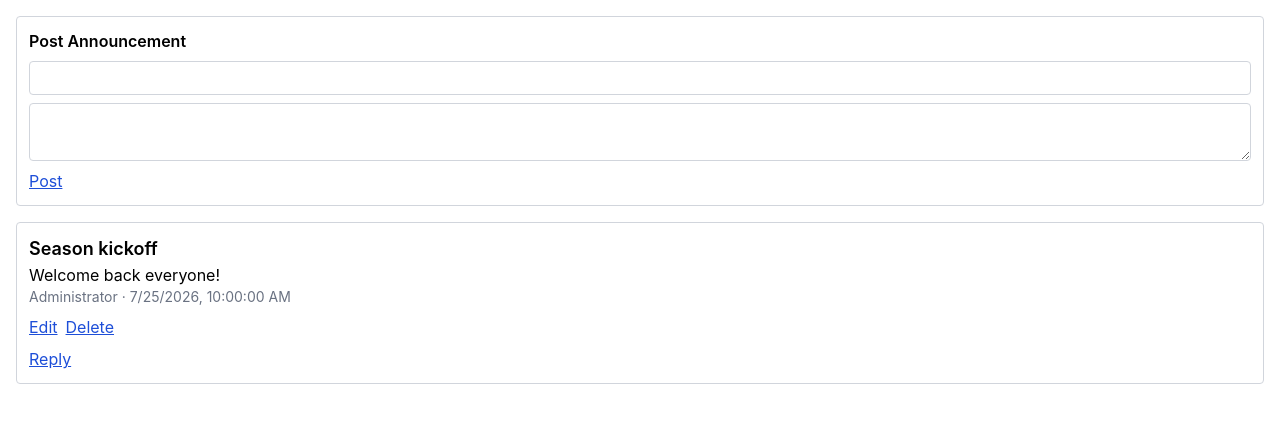
Test case: AnnouncementFeed › shows an error message when deleting an announcement fails
expect the heading "Season kickoff" is shown: met, box top-left (29, 238), bottom-right (158, 259)
Click the button "Delete" at (90, 327), box top-left (66, 315), bottom-right (114, 339)
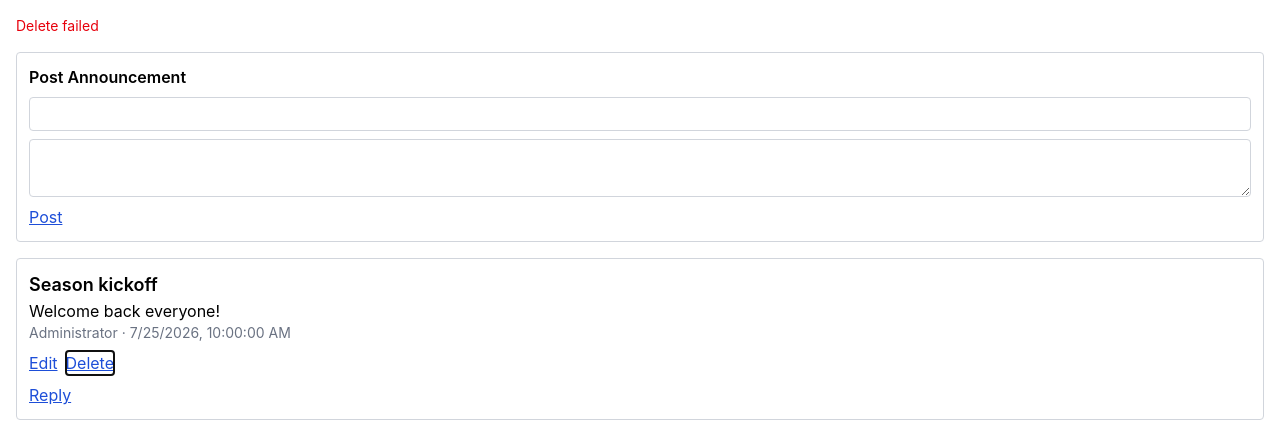
expect the message reads "Delete failed": met, box top-left (16, 17), bottom-right (99, 34)
